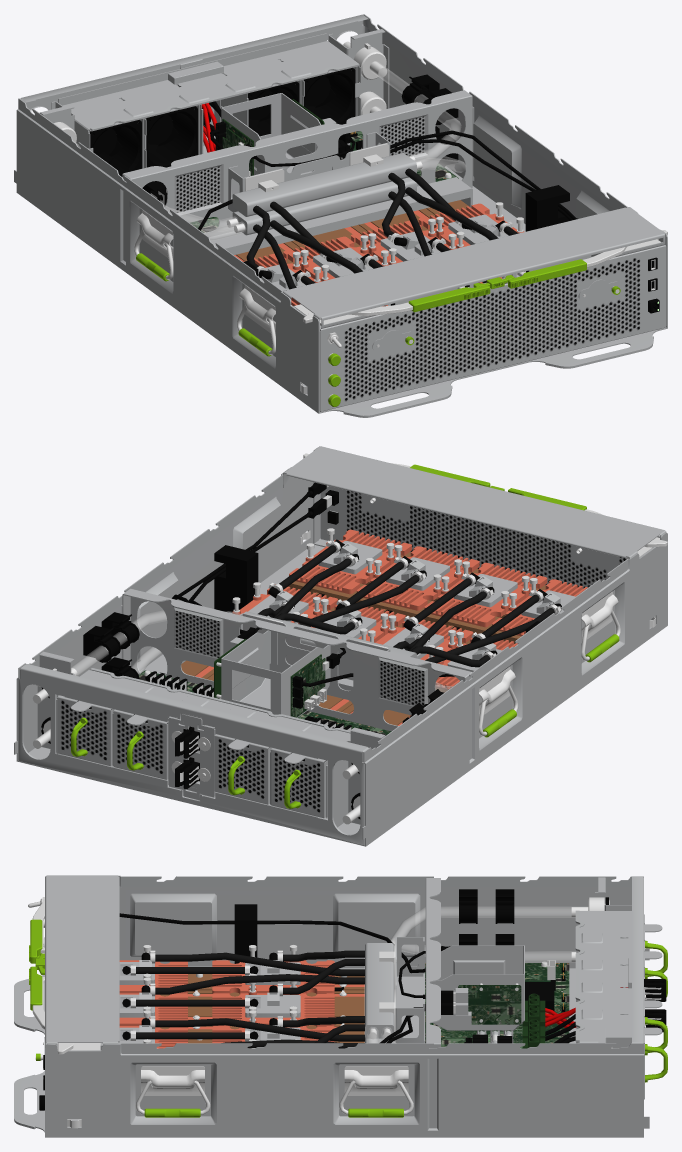
File: blind-mate-chassis.glb
3 views of the same model, one above another, from view 1: azimuth 30°, elevation 25°; view 2: azimuth 150°, elevation 25°; view 3: azimuth 270°, elevation 25° (orthographic).
Visible parts, largest first — view 1: BLMTCH Body_Merged_primitive0, BLMTCH Body_Merged_primitive3, BLMTCH Body_Merged_primitive5, BLMTCH Body_Merged_primitive1, BLMTCH Body_Merged_primitive12, BLMTCH Body_Merged_primitive10, BLMTCH Body_Merged_primitive7, BLMTCH Body_Merged_primitive4, BLMTCH Body_Merged_primitive13, BLMTCH Body_Merged_primitive11, BLMTCH Body_Merged_primitive9, BLMTCH Body_Merged_primitive2; view 2: BLMTCH Body_Merged_primitive0, BLMTCH Body_Merged_primitive3, BLMTCH Body_Merged_primitive10, BLMTCH Body_Merged_primitive5, BLMTCH Body_Merged_primitive1, BLMTCH Body_Merged_primitive12, BLMTCH Body_Merged_primitive11, BLMTCH Body_Merged_primitive4, BLMTCH Body_Merged_primitive9, BLMTCH Body_Merged_primitive13, BLMTCH Body_Merged_primitive7, BLMTCH Body_Merged_primitive2; view 3: BLMTCH Body_Merged_primitive0, BLMTCH Body_Merged_primitive12, BLMTCH Body_Merged_primitive1, BLMTCH Body_Merged_primitive10, BLMTCH Body_Merged_primitive5, BLMTCH Body_Merged_primitive9, BLMTCH Body_Merged_primitive3, BLMTCH Body_Merged_primitive7, BLMTCH Body_Merged_primitive13, BLMTCH Body_Merged_primitive4, BLMTCH Body_Merged_primitive11, BLMTCH Body_Merged_primitive8 (+1 smaller).
Boxes of the visible parts, <box> form: BLMTCH Body_Merged_primitive0: <box>14,14,667,417</box>; BLMTCH Body_Merged_primitive3: <box>88,59,666,411</box>; BLMTCH Body_Merged_primitive5: <box>89,67,659,313</box>; BLMTCH Body_Merged_primitive1: <box>54,41,667,401</box>; BLMTCH Body_Merged_primitive12: <box>246,168,518,289</box>; BLMTCH Body_Merged_primitive10: <box>234,203,524,306</box>; BLMTCH Body_Merged_primitive7: <box>74,61,465,240</box>; BLMTCH Body_Merged_primitive4: <box>328,259,620,406</box>; BLMTCH Body_Merged_primitive13: <box>198,101,577,230</box>; BLMTCH Body_Merged_primitive11: <box>236,200,470,263</box>; BLMTCH Body_Merged_primitive9: <box>190,119,458,232</box>; BLMTCH Body_Merged_primitive2: <box>136,253,272,356</box>; BLMTCH Body_Merged_primitive0: <box>14,446,667,846</box>; BLMTCH Body_Merged_primitive3: <box>57,482,653,818</box>; BLMTCH Body_Merged_primitive10: <box>195,529,587,725</box>; BLMTCH Body_Merged_primitive5: <box>41,482,561,819</box>; BLMTCH Body_Merged_primitive1: <box>32,453,667,824</box>; BLMTCH Body_Merged_primitive12: <box>258,545,554,667</box>; BLMTCH Body_Merged_primitive11: <box>181,552,545,725</box>; BLMTCH Body_Merged_primitive4: <box>71,464,586,808</box>; BLMTCH Body_Merged_primitive9: <box>139,655,391,734</box>; BLMTCH Body_Merged_primitive13: <box>172,492,460,686</box>; BLMTCH Body_Merged_primitive7: <box>71,610,452,692</box>; BLMTCH Body_Merged_primitive2: <box>483,634,619,737</box>; BLMTCH Body_Merged_primitive0: <box>14,875,662,1137</box>; BLMTCH Body_Merged_primitive12: <box>136,950,364,1048</box>; BLMTCH Body_Merged_primitive1: <box>28,897,661,1128</box>; BLMTCH Body_Merged_primitive10: <box>119,960,364,1048</box>; BLMTCH Body_Merged_primitive5: <box>39,889,666,1110</box>; BLMTCH Body_Merged_primitive9: <box>425,963,569,1048</box>; BLMTCH Body_Merged_primitive3: <box>425,878,644,1099</box>; BLMTCH Body_Merged_primitive7: <box>367,907,587,1043</box>; BLMTCH Body_Merged_primitive13: <box>119,913,575,1043</box>; BLMTCH Body_Merged_primitive4: <box>29,919,667,1082</box>; BLMTCH Body_Merged_primitive11: <box>160,974,364,1043</box>; BLMTCH Body_Merged_primitive8: <box>458,985,545,1048</box>.
Size of the model in its own units: 0.5575 by 0.1416 by 0.8785.
Materials: 17 (2 with a texture image).
